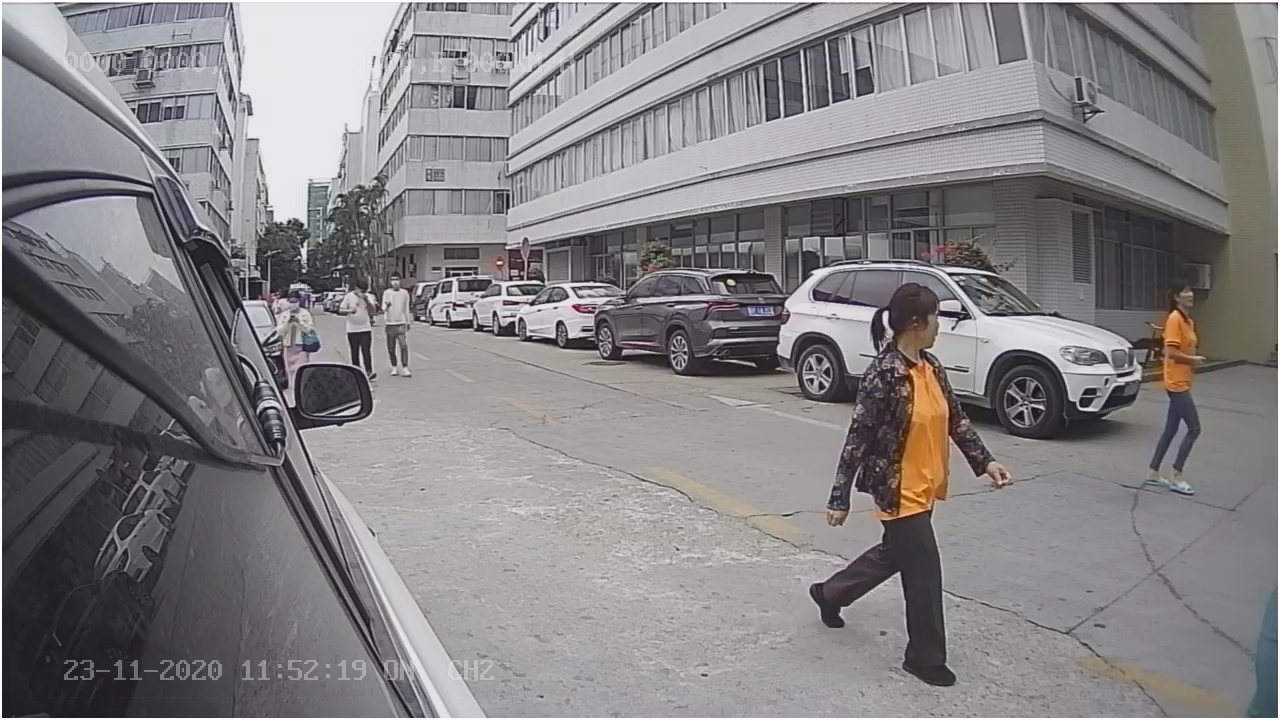person: (827, 281, 1001, 691)
